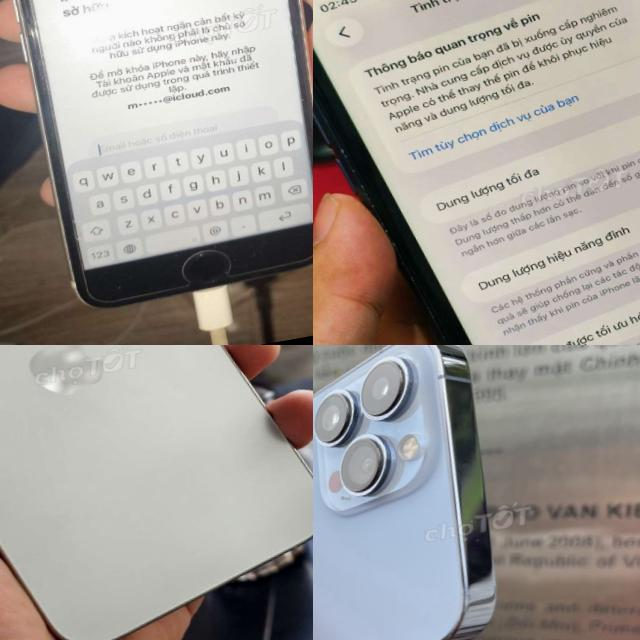gen_11: (313, 0, 640, 345)
gen_12_13: (313, 345, 522, 640)
gen_15: (0, 345, 313, 640)
gen_7_8: (0, 0, 313, 315)
